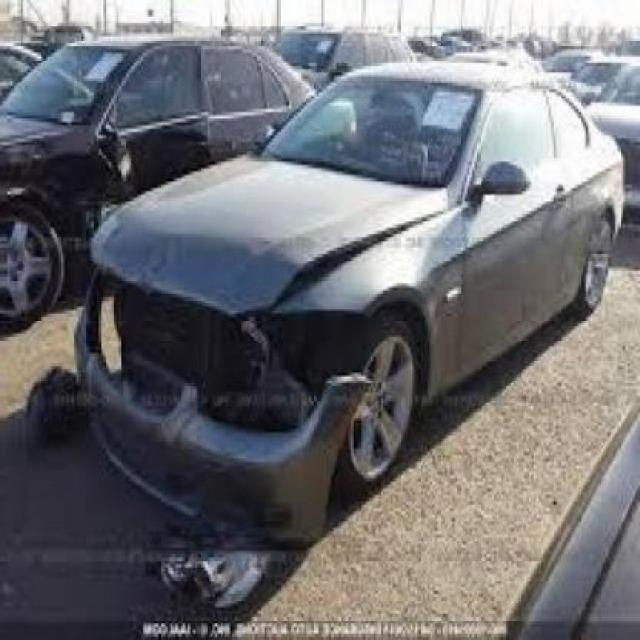damage: (72, 205, 437, 548)
